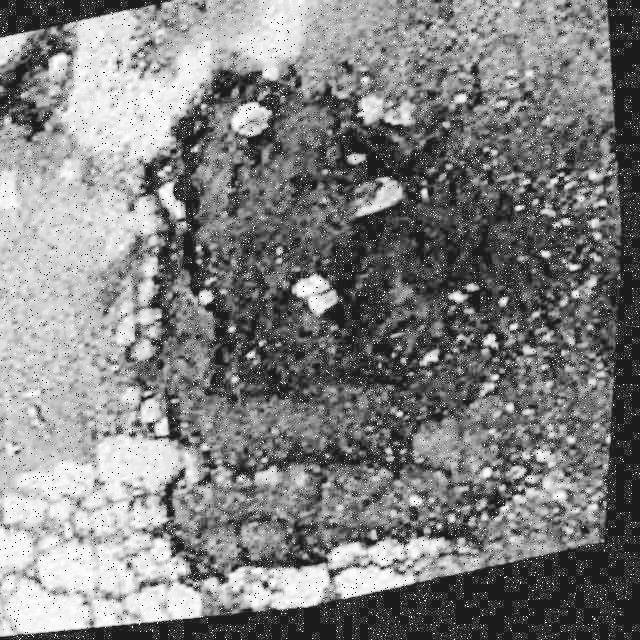Pothole: (71, 0, 638, 627), (0, 20, 91, 155)
